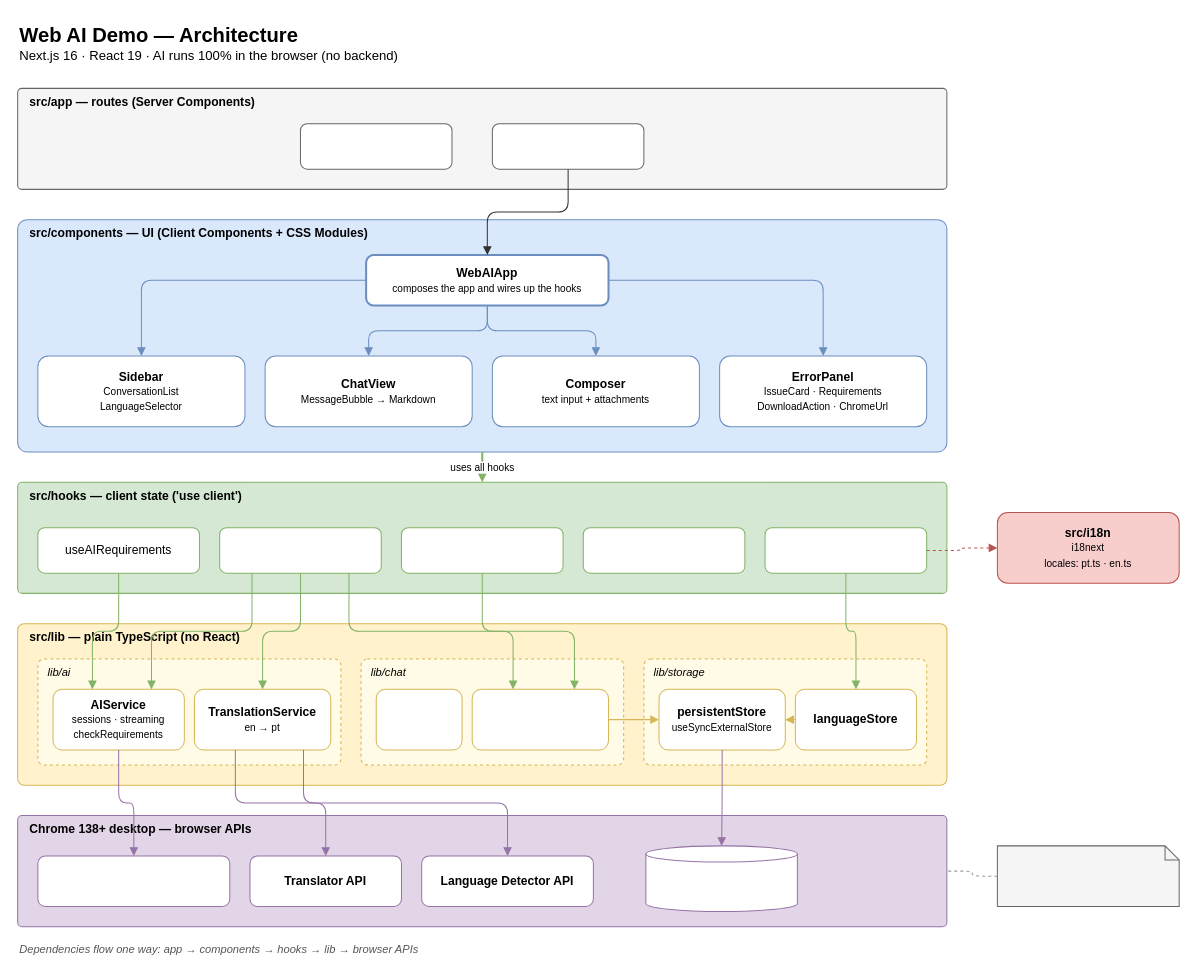
This 1197x979 diagram has some shape labels left out. Each missing label, with the centre of its shape:
"conversationStore" goes at (x=540, y=719).
"layout.tsx" goes at (x=375, y=146).
"localStorage webai.* keys" goes at (x=721, y=878).
"page.tsx" goes at (x=567, y=146).
"Prompt API LanguageModel (Gemini Nano)" goes at (x=133, y=880).
"src/types/chrome-ai.d.ts Chrome AI API types" goes at (x=1087, y=875).
"types.ts" goes at (x=418, y=719).
"useAttachment" goes at (x=663, y=550).
"useChat" goes at (x=300, y=550).
"useConversations" goes at (x=481, y=550).
"useLanguage" goes at (x=845, y=550).
